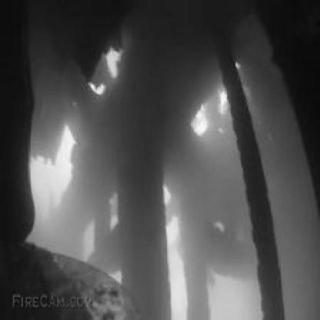Fire: (184, 106, 214, 136), (214, 84, 230, 116)
